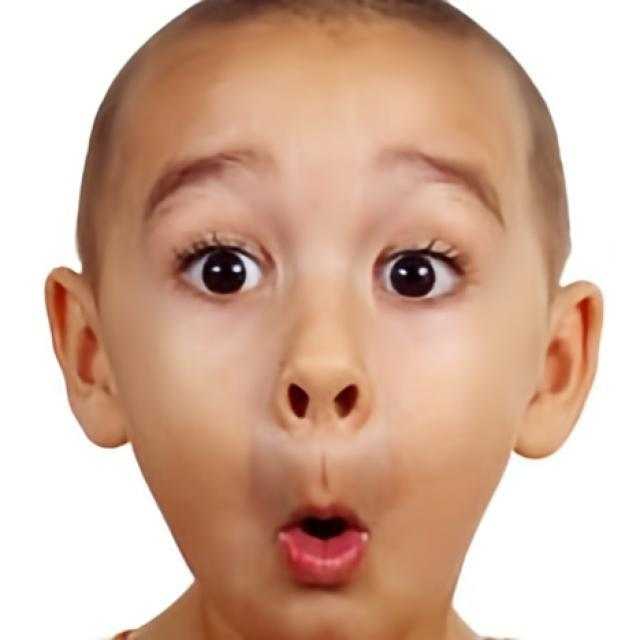surprise: (131, 56, 550, 640)
